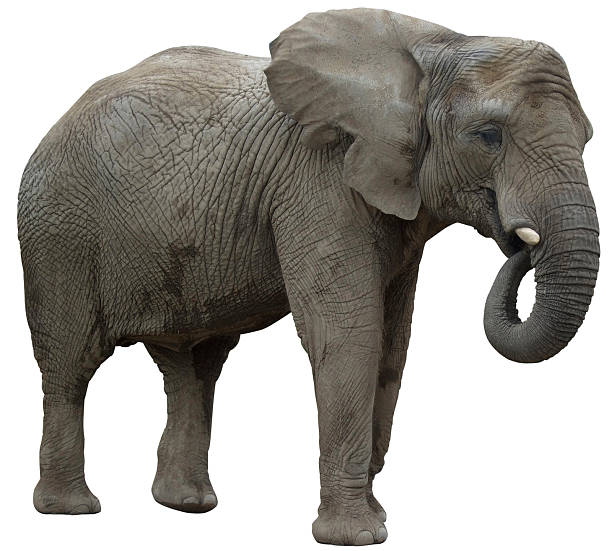africanelephant: (404, 45, 599, 319)
